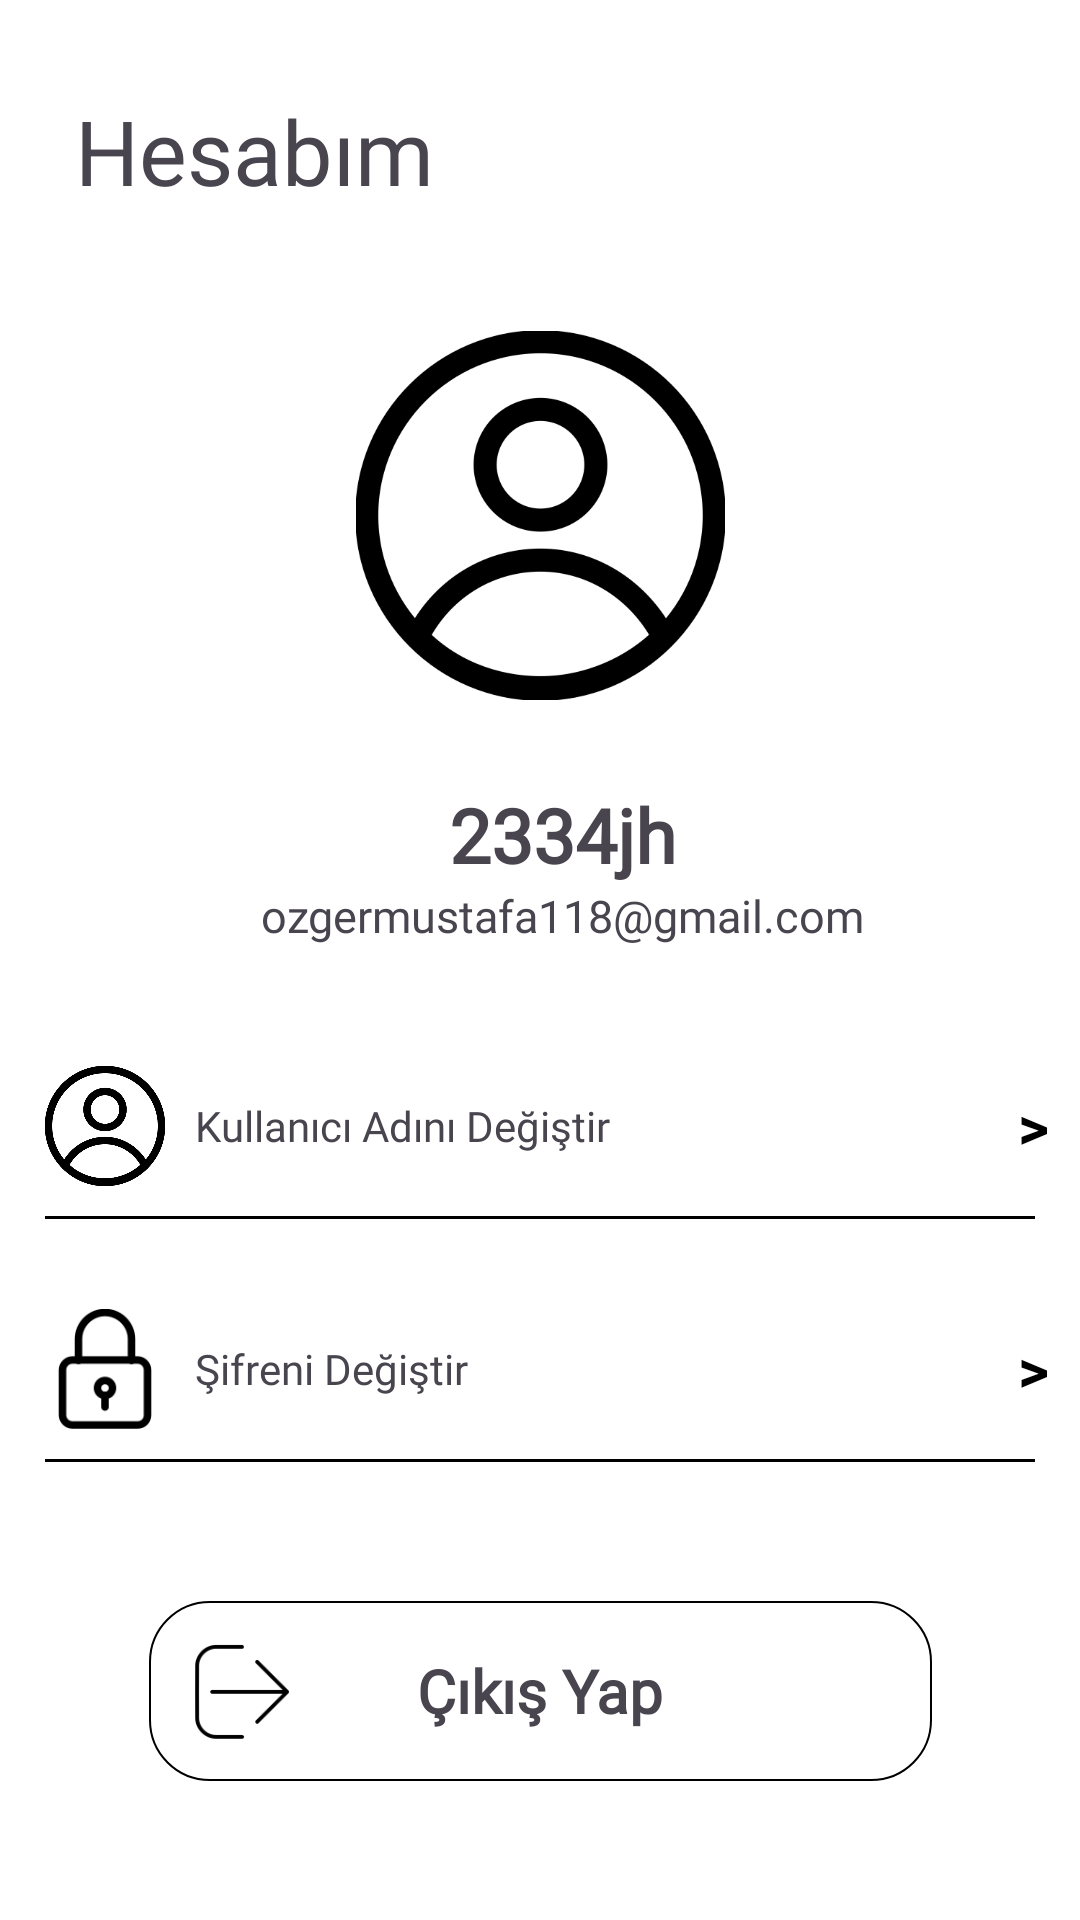

Point at icon controls on the screen. Image size 1080 × 1920, points as [x,y].
log out: [242,1692]
password: [105,1369]
